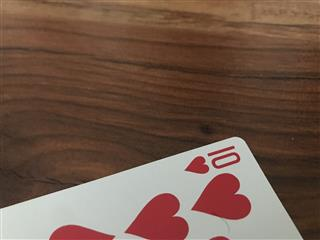TenOfHearts: (1, 134, 304, 240)
